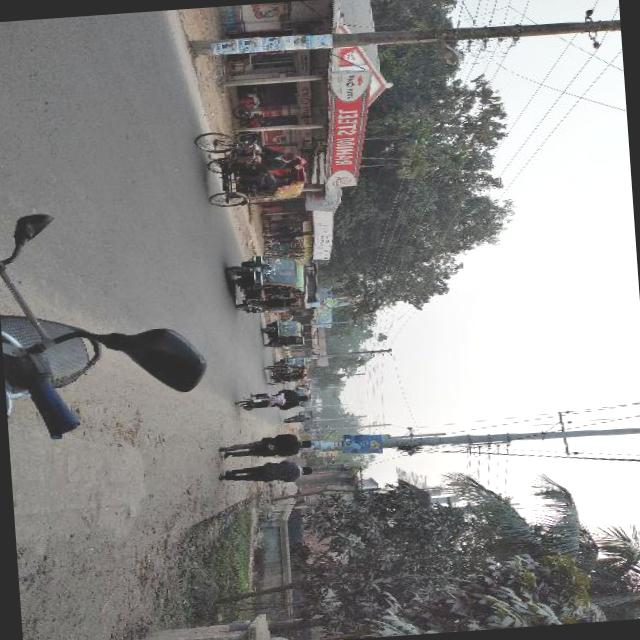motorcycle: (0, 193, 213, 442), (194, 126, 308, 211), (224, 252, 310, 316), (232, 104, 265, 150), (262, 318, 308, 350), (263, 362, 308, 386), (275, 354, 310, 372), (260, 250, 284, 268), (292, 389, 311, 401), (296, 410, 316, 420), (296, 401, 312, 408), (302, 418, 314, 426)
